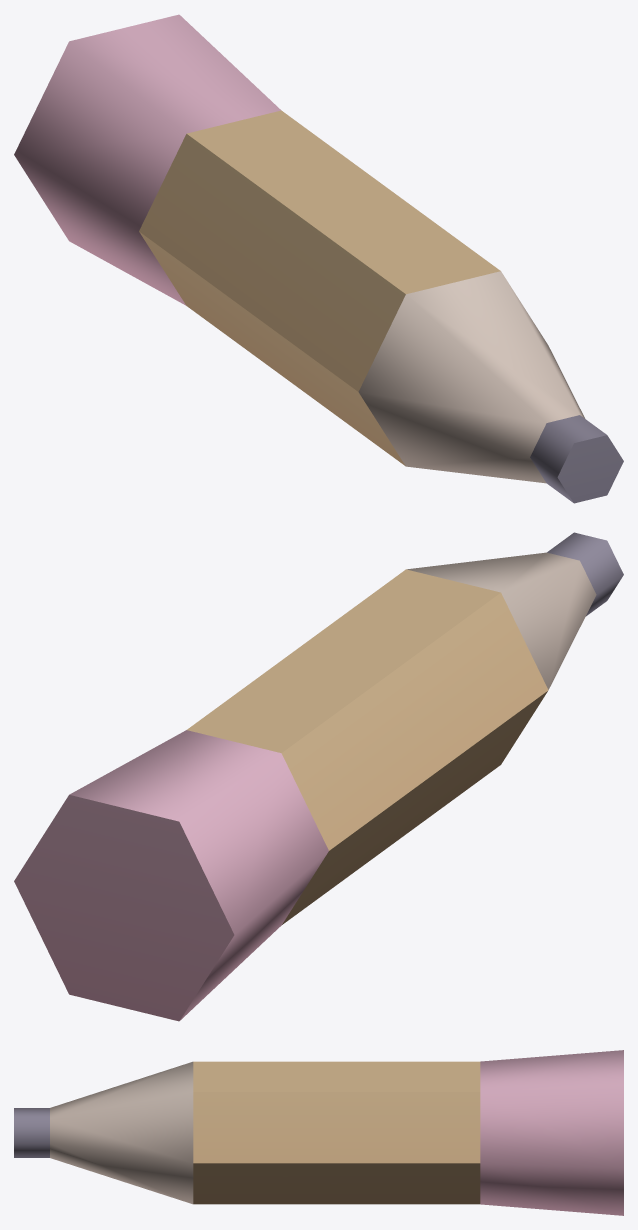
Rendered from pencil.glb.
3 renders of one model, top to bottom at view 1: azimuth 30°, elevation 25°; view 2: azimuth 150°, elevation 25°; view 3: azimuth 270°, elevation 25°, orthographic. The views are drawn at different scales.
Parts seen in each view (by area): view 1: pencil; view 2: pencil; view 3: pencil.
Part boxes in pixels (x1,y1,x2,y2): pencil: [14, 14, 623, 503]; pencil: [14, 532, 623, 1021]; pencil: [14, 1050, 623, 1215].
Size of the model in its own units: 0.0789 by 0.0683 by 0.289.
